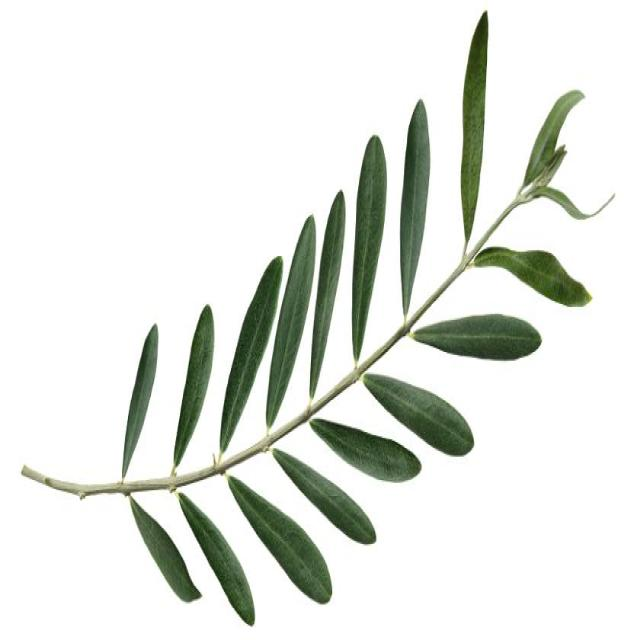Healthy: (229, 477, 331, 602), (220, 257, 281, 455), (266, 215, 315, 429), (179, 493, 254, 623), (276, 451, 376, 543), (363, 375, 473, 455), (352, 137, 386, 362), (130, 496, 201, 602), (309, 191, 345, 397), (171, 305, 213, 473), (472, 247, 592, 305), (310, 419, 421, 481), (400, 100, 430, 314), (460, 12, 488, 241), (411, 314, 541, 359), (122, 324, 158, 479)
